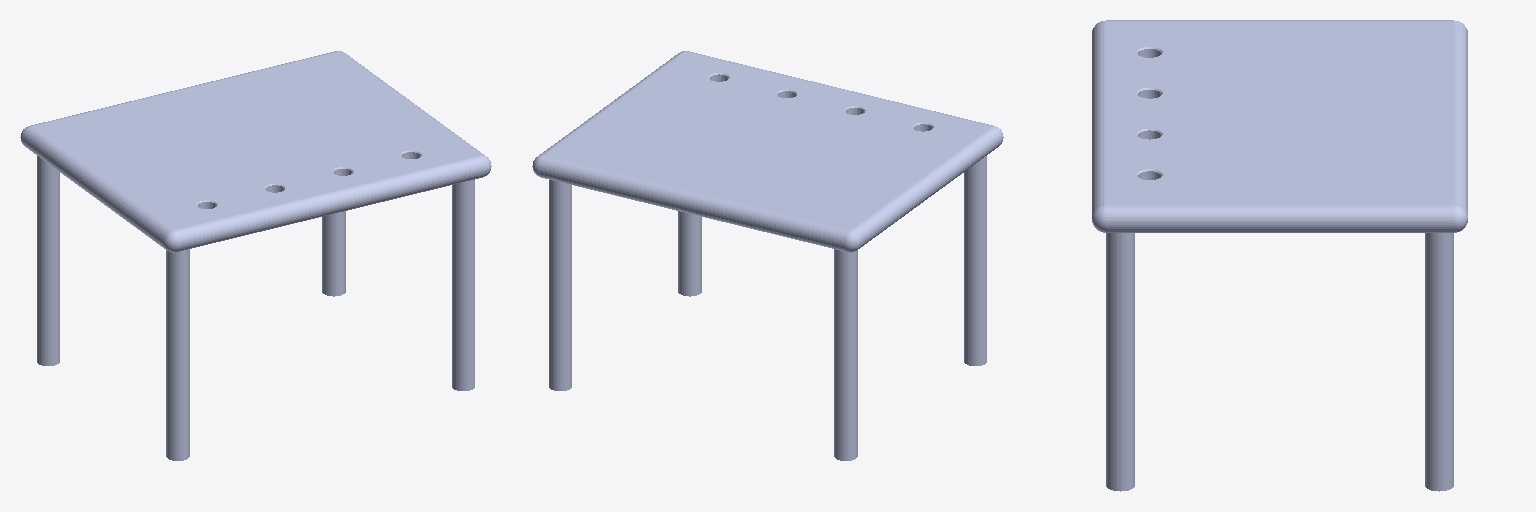
The robot description file, URDF, robot "table":
<?xml version="1.0" ?>
<!-- =================================================================================== -->
<!-- |    This document was autogenerated by xacro from [local-path]/projects/personal_ws/src/kuka_coke_cell/kuka_coke_description/urdf/table_pybullet.xacro | -->
<!-- |    EDITING THIS FILE BY HAND IS NOT RECOMMENDED                                 | -->
<!-- =================================================================================== -->
<robot name="table">
  <link concave="yes" name="table">
    <inertial>
      <origin rpy="0 0 0" xyz="-0.080585 0.00067592 0.086754"/>
      <mass value="30.385"/>
      <inertia ixx="0.38941" ixy="0.0047083" ixz="0.060696" iyy="0.87424" iyz="-0.00029206" izz="1.0819"/>
    </inertial>
    <visual>
      <origin rpy="0 0 0" xyz="0 0 0"/>
      <geometry>
        <mesh filename="package://kuka_coke_description/meshes/table.stl"/>
      </geometry>
      <material name="">
        <color rgba="0.79216 0.81961 0.93333 1"/>
      </material>
    </visual>
    <collision concave="yes">
      <origin rpy="0 0 0" xyz="0 0 0"/>
      <geometry>
        <mesh filename="package://kuka_coke_description/meshes/table.stl"/>
      </geometry>
    </collision>
  </link>
</robot>

--- Facts derived from the render (not from the file) ---
Views: 3 orthographic renders of the robot side by side, from view 1: azimuth 30°, elevation 25°; view 2: azimuth 150°, elevation 25°; view 3: azimuth 270°, elevation 25°.
Model table with 1 links and 0 joints (none), rooted at table, posed all joints at 0.
Links seen in each view (by area): view 1: table; view 2: table; view 3: table.
Link boxes in pixels (x1,y1,x2,y2): table: (20,51,491,460); table: (532,51,1003,460); table: (1092,20,1467,491).
Bounding box of the posed robot: 1.6 × 1.3 × 1.09 m (x, y, z).
Meshes: 1 distinct files referenced, 1 mesh visuals loaded (1 binary STL).